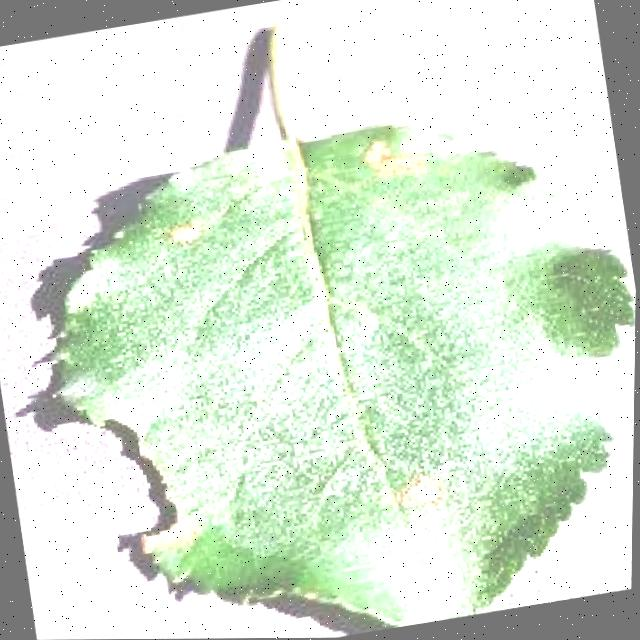black_rot: (340, 118, 442, 200), (121, 500, 227, 575), (379, 456, 462, 526), (160, 210, 213, 268)
